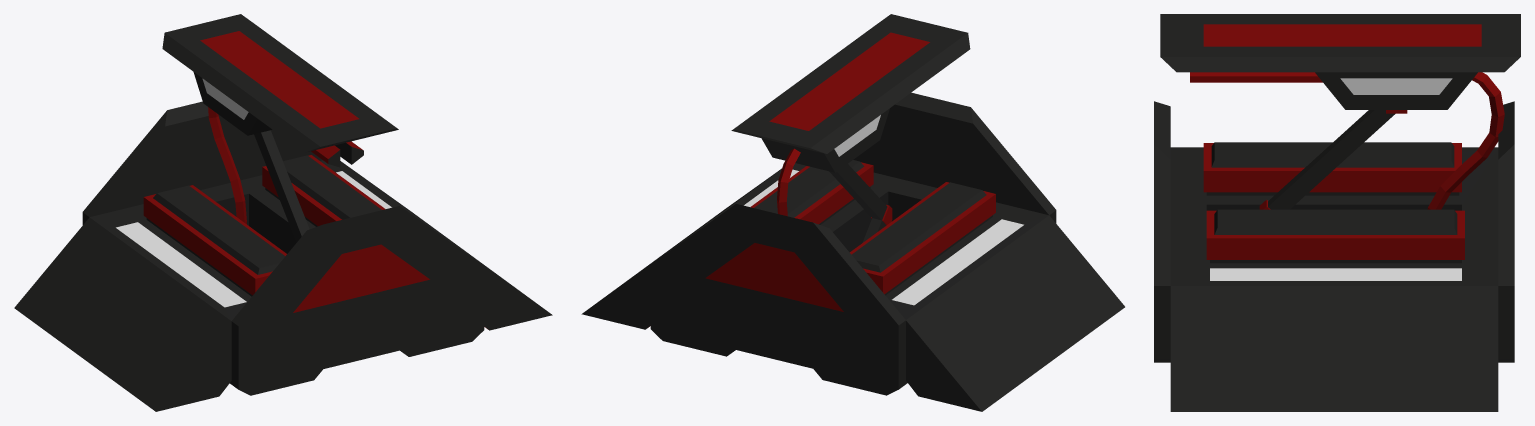
Rendered from Turret_Open.fbx.
The picture shows the model from 3 angles, left to right: view 1: azimuth 30°, elevation 25°; view 2: azimuth 150°, elevation 25°; view 3: azimuth 270°, elevation 25°; orthographic projection. The views are drawn at different scales.
Visible parts, largest first — view 1: Turret_Open; view 2: Turret_Open; view 3: Turret_Open.
Boxes of the visible parts, x1,y1,x2,y2 form: Turret_Open: (14, 14, 552, 411); Turret_Open: (581, 14, 1124, 411); Turret_Open: (1154, 14, 1520, 411).
Size of the model in its own units: 1.61 by 1.12 by 0.891.
